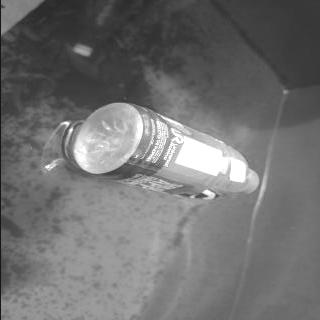bottle: (72, 103, 260, 200)
